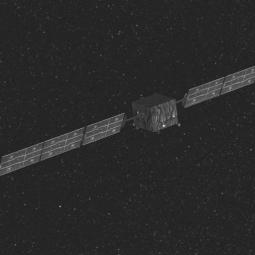smart_1: (86, 66, 200, 144)
